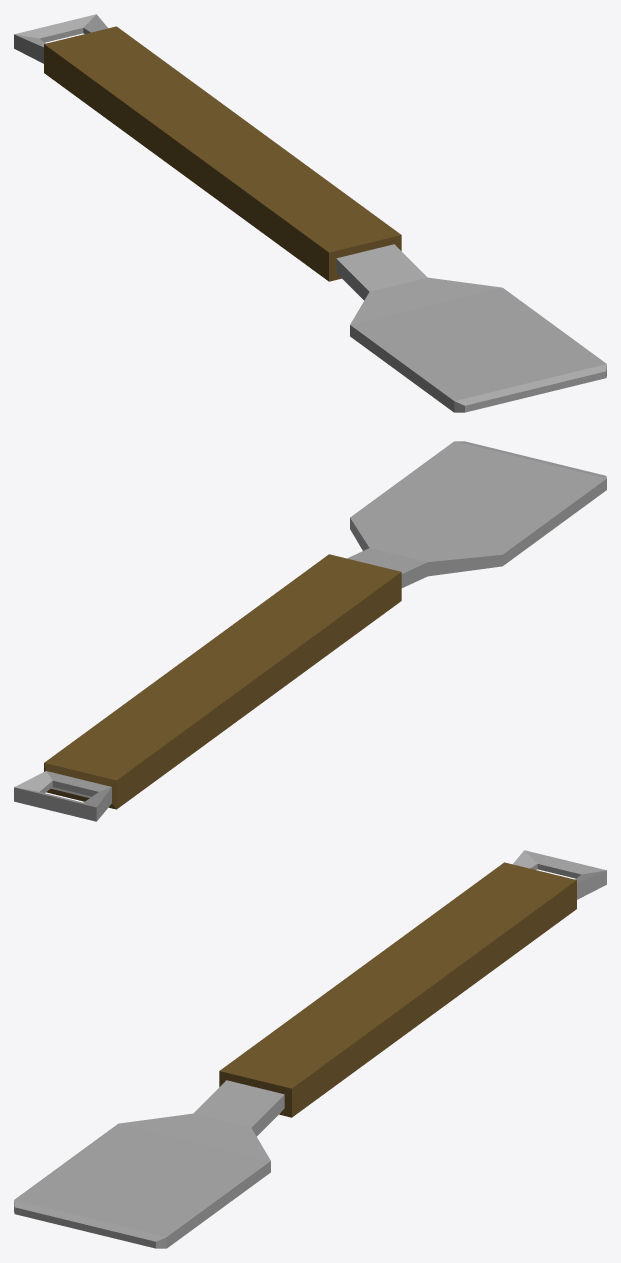
The model's file is Proto_Spatula_01.fbx.
3 renders of one model, top to bottom at view 1: azimuth 30°, elevation 25°; view 2: azimuth 150°, elevation 25°; view 3: azimuth 330°, elevation 25°, orthographic.
Visible parts, largest first — view 1: Proto_Spatula_01; view 2: Proto_Spatula_01; view 3: Proto_Spatula_01.
Part boxes in pixels (x1,y1,x2,y2): Proto_Spatula_01: (14,14,606,412); Proto_Spatula_01: (14,441,606,821); Proto_Spatula_01: (14,850,606,1248).
Size of the model in its own units: 4.52 by 0.868 by 24.64.
